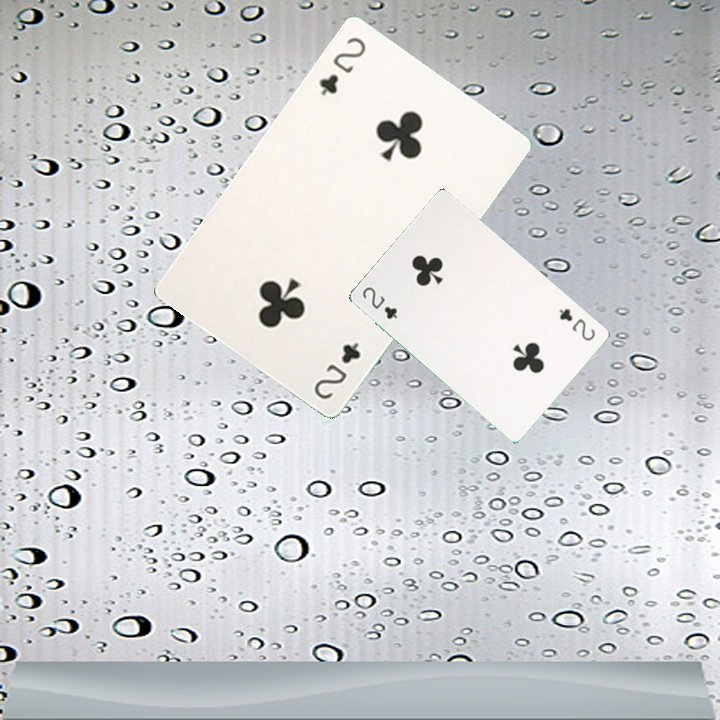2c: (314, 32, 369, 99), (309, 338, 363, 402), (555, 304, 598, 344), (358, 283, 400, 322)
